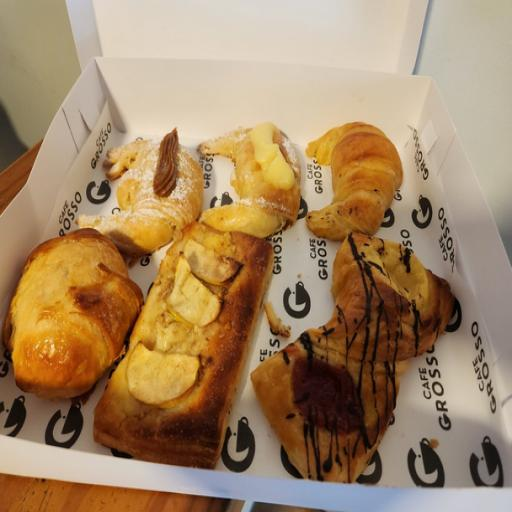bolleria: (251, 233, 454, 482), (94, 222, 272, 468), (4, 230, 143, 400), (78, 129, 202, 257), (198, 122, 300, 238), (306, 122, 403, 241)
